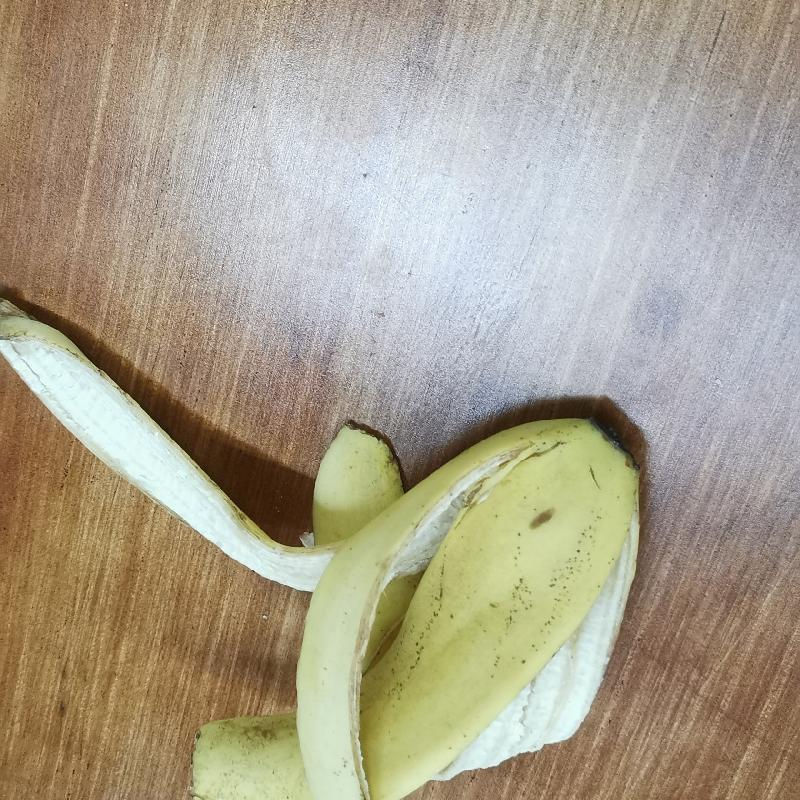bananas: (0, 277, 649, 800)
